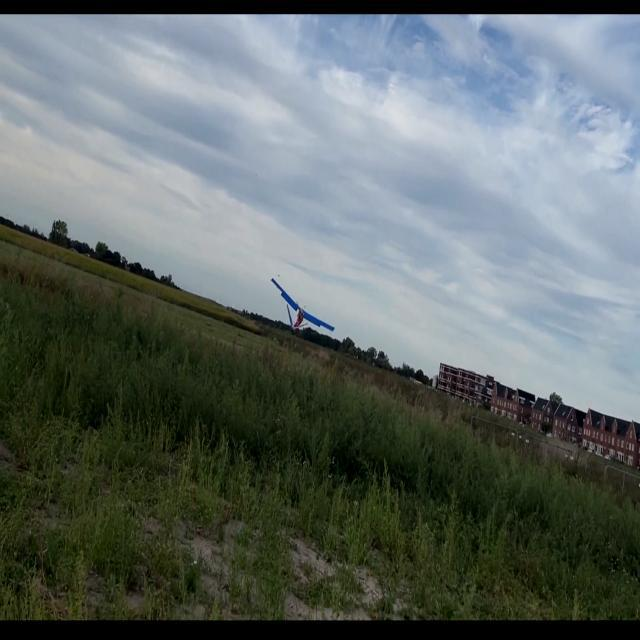iha: (281, 301, 309, 318)
